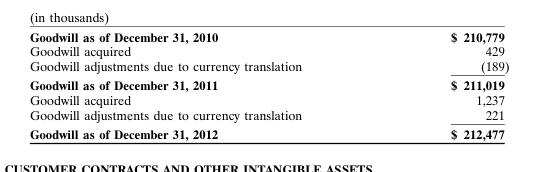table: (28, 28, 508, 141)
table column: (28, 28, 375, 141), (375, 28, 508, 141)
table row: (28, 123, 508, 141), (28, 58, 508, 75), (28, 75, 508, 92), (28, 106, 508, 123), (28, 28, 508, 43), (28, 43, 508, 58), (28, 92, 508, 106)
